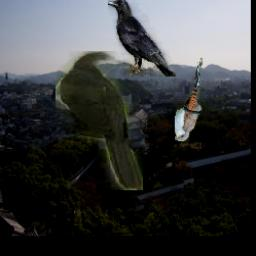Crow: (108, 0, 176, 77)
Cuckoo: (54, 51, 142, 190), (174, 59, 202, 142)
